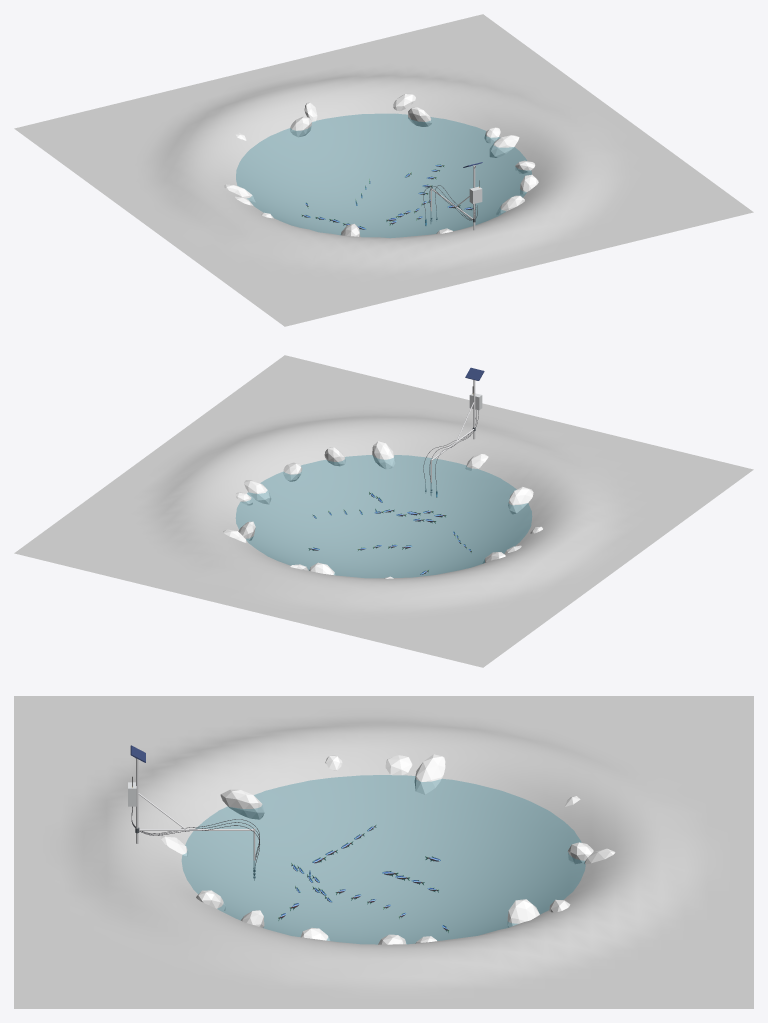
File: pond1.glb
3 renders of one model, top to bottom at view 1: azimuth 30°, elevation 25°; view 2: azimuth 150°, elevation 25°; view 3: azimuth 270°, elevation 25°, orthographic. The views are drawn at different scales.
Visible parts, largest first — view 1: GroundTerrain, WaterSurface; view 2: GroundTerrain, WaterSurface; view 3: GroundTerrain, WaterSurface, Rock_8, Rock_11, Rock_2.
Part boxes in pixels (box(x1,y1,x2,y2)): GroundTerrain: box(14, 14, 753, 326); WaterSurface: box(236, 114, 531, 237); GroundTerrain: box(14, 355, 753, 667); WaterSurface: box(236, 455, 531, 577); GroundTerrain: box(14, 696, 753, 1008); WaterSurface: box(182, 775, 585, 944); Rock_8: box(414, 754, 445, 794); Rock_11: box(220, 789, 264, 819); Rock_2: box(507, 899, 539, 927).
Bounding box in the file's own units: 12 × 3.03 × 12.
17 materials, 2 textured.
